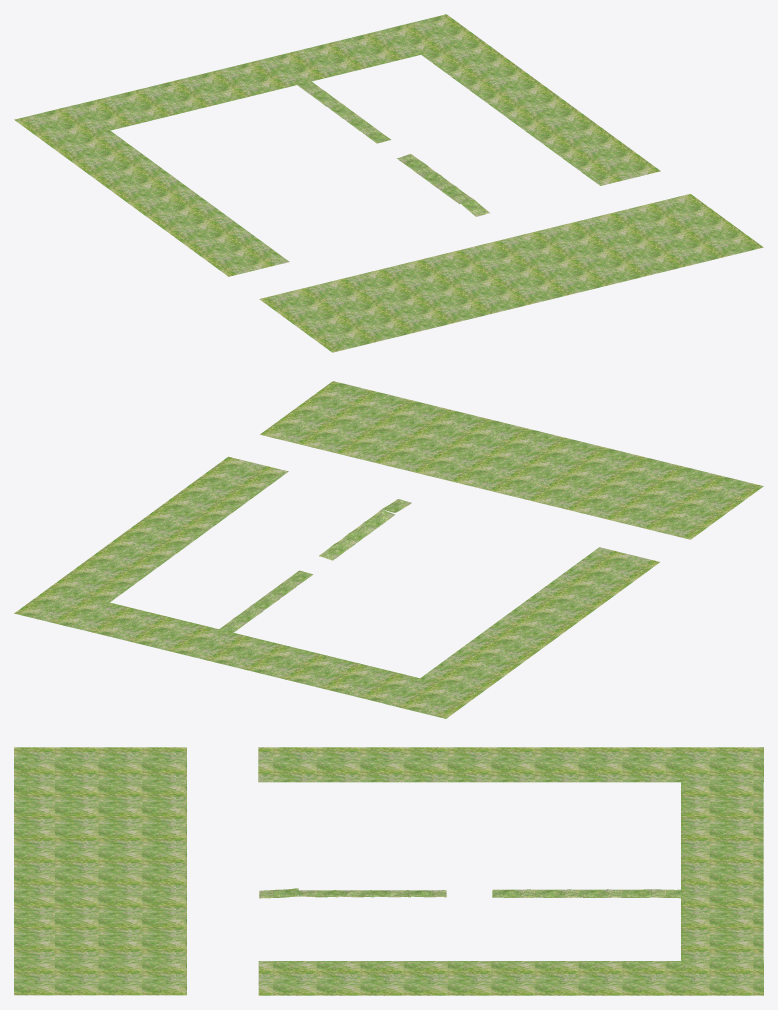
The model's file is cesped.obj.
3 views of the same model, one above another, from view 1: azimuth 30°, elevation 25°; view 2: azimuth 150°, elevation 25°; view 3: azimuth 270°, elevation 25° (orthographic). The views are drawn at different scales.
Parts seen in each view (by area): view 1: Plane004; view 2: Plane004; view 3: Plane004.
Boxes of the visible parts, x1=… form: Plane004: x1=14, y1=14, x2=763, y2=352; Plane004: x1=14, y1=381, x2=763, y2=718; Plane004: x1=14, y1=747, x2=763, y2=995.
Bounding box in the file's own units: 140 × 0.6792 × 178.
Materials: 1 (1 with a texture image).
